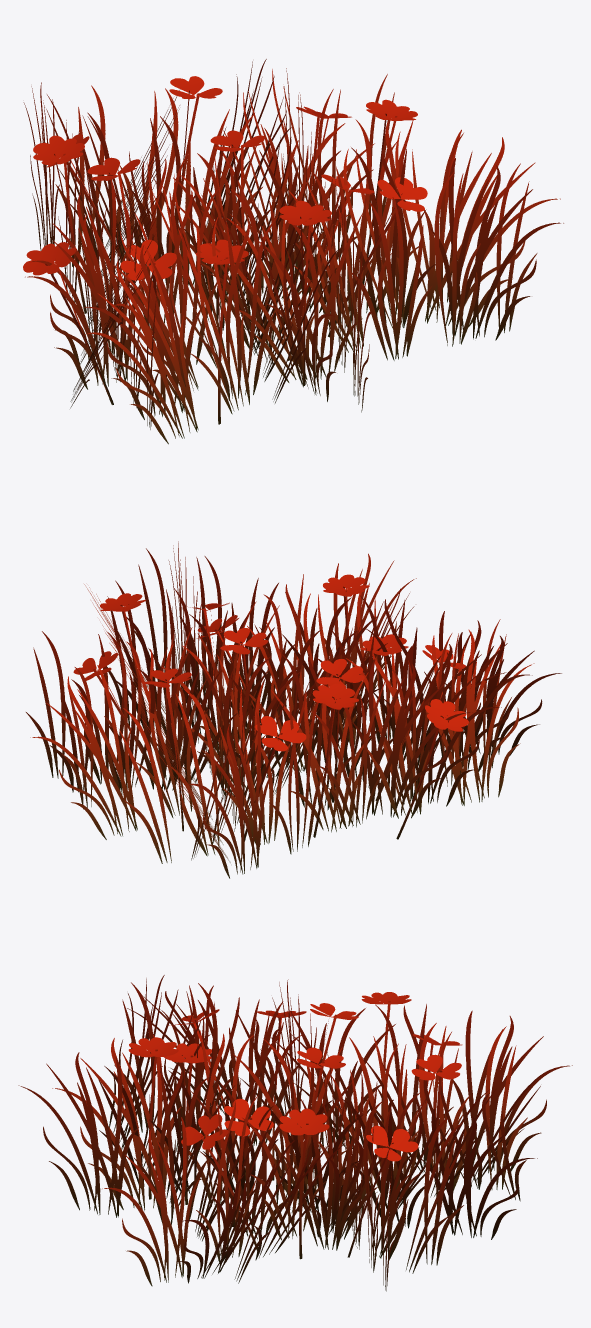
File: GrassPatch_Mid_D.FBX
3 views of the same model, one above another, from view 1: azimuth 30°, elevation 25°; view 2: azimuth 150°, elevation 25°; view 3: azimuth 270°, elevation 25° (orthographic). The views are drawn at different scales.
Visible parts, largest first — view 1: GrassPatch_Mid_D; view 2: GrassPatch_Mid_D; view 3: GrassPatch_Mid_D.
Boxes of the visible parts, bbox=[...] form: GrassPatch_Mid_D: bbox=[23, 59, 563, 444]; GrassPatch_Mid_D: bbox=[26, 541, 561, 878]; GrassPatch_Mid_D: bbox=[18, 975, 572, 1291].
Bounding box in the file's own units: 2.16 × 0.8972 × 2.16.
